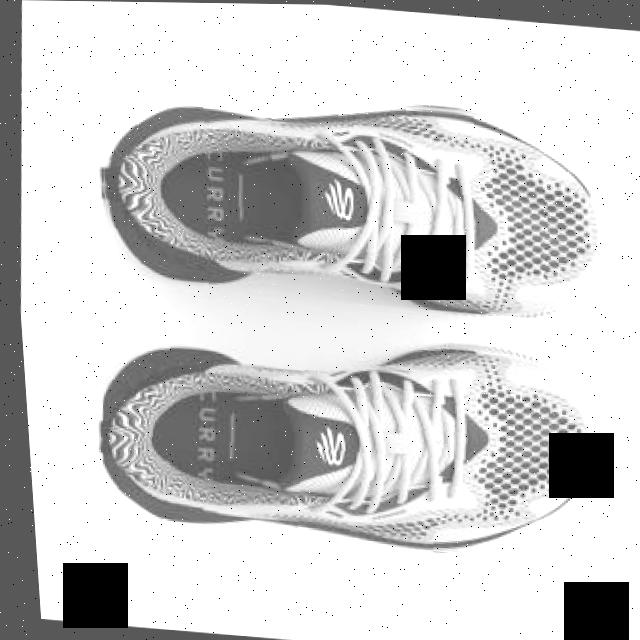shoe: (83, 310, 606, 566), (85, 74, 611, 322)
